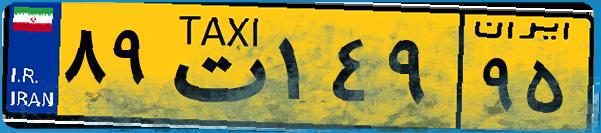1: (270, 28, 330, 110)
4: (330, 28, 385, 110)
5: (525, 38, 570, 115)
8: (57, 26, 110, 100)
9: (385, 28, 445, 110), (475, 38, 525, 113), (110, 28, 158, 98)
ت: (158, 12, 270, 120)
